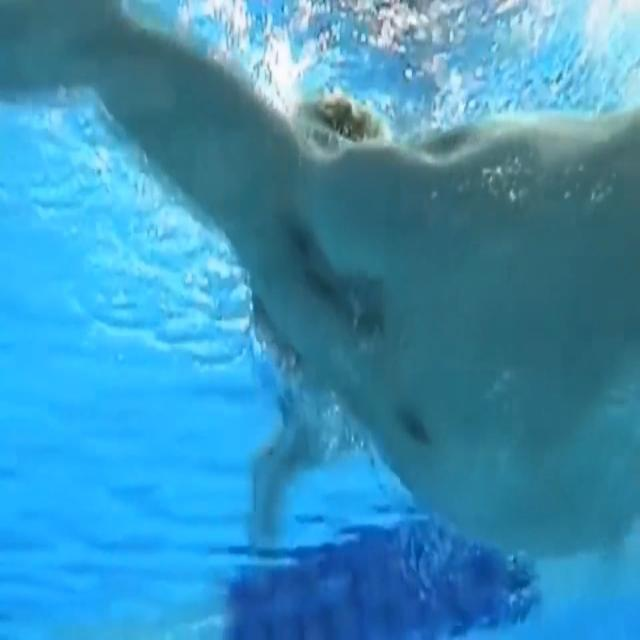Swimming: (237, 76, 640, 548)
